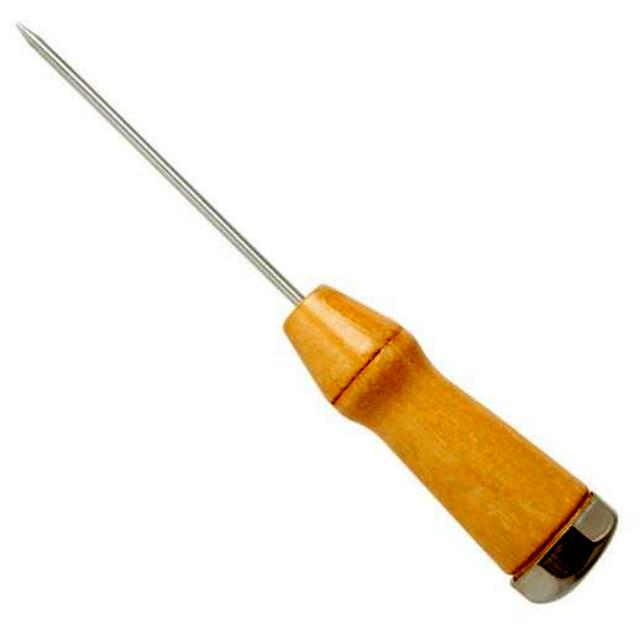ice pick: (15, 22, 622, 608)
